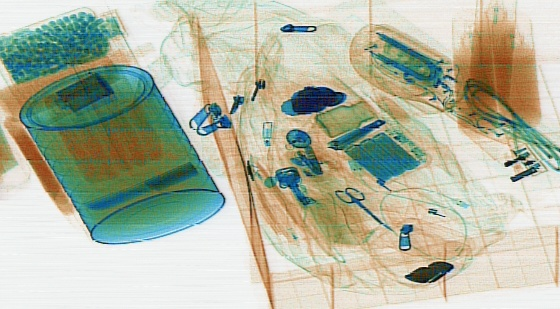knife: (80, 158, 198, 212)
powerbank: (340, 124, 432, 182)
scissors: (331, 183, 393, 231)
